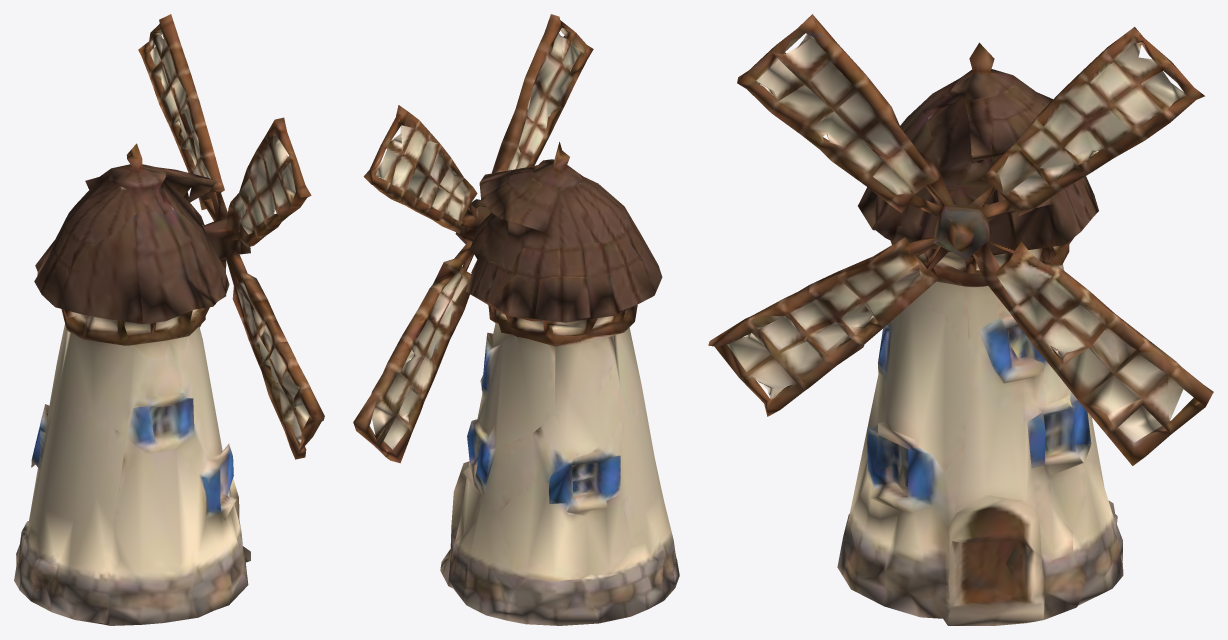
Rendered from windmill-small.glb.
3 renders of one model, left to right at view 1: azimuth 30°, elevation 25°; view 2: azimuth 150°, elevation 25°; view 3: azimuth 270°, elevation 25°, orthographic. The views are drawn at different scales.
Parts seen in each view (by area): view 1: tripo_node_aefbd194-d1e8-402b-bcb8-9a07727ddda4; view 2: tripo_node_aefbd194-d1e8-402b-bcb8-9a07727ddda4; view 3: tripo_node_aefbd194-d1e8-402b-bcb8-9a07727ddda4.
Part boxes in pixels (<box>): tripo_node_aefbd194-d1e8-402b-bcb8-9a07727ddda4: <box>14,14,324,625</box>; tripo_node_aefbd194-d1e8-402b-bcb8-9a07727ddda4: <box>353,14,679,625</box>; tripo_node_aefbd194-d1e8-402b-bcb8-9a07727ddda4: <box>708,14,1213,625</box>.
Bounding box in the file's own units: 0.4609 × 0.9999 × 0.7682.
1 material, 1 textured.
